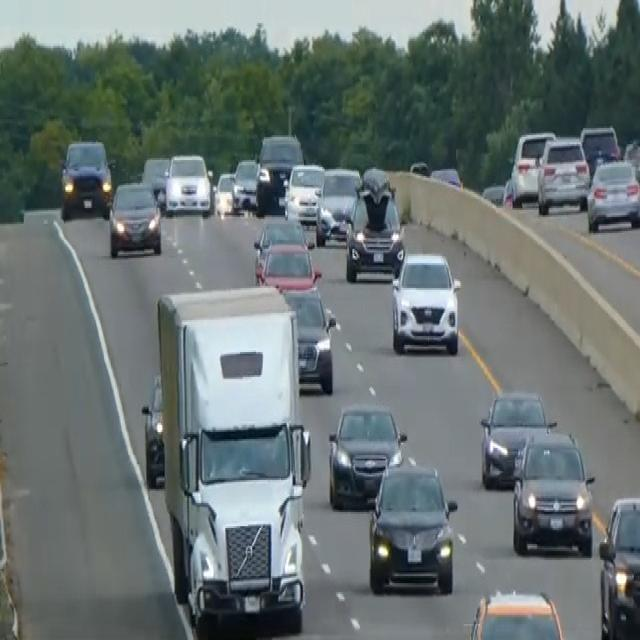car: (367, 457, 457, 595), (511, 428, 595, 556), (327, 402, 406, 508), (389, 247, 461, 356), (478, 388, 556, 487), (344, 169, 404, 283), (280, 283, 336, 393), (598, 492, 639, 638), (466, 587, 568, 638), (59, 137, 113, 220), (536, 133, 590, 215), (108, 178, 162, 258), (586, 156, 639, 233), (255, 132, 304, 214), (315, 164, 361, 245), (509, 128, 556, 204), (252, 213, 307, 276), (255, 240, 321, 292), (164, 151, 211, 215), (140, 372, 165, 487), (282, 160, 325, 226), (579, 123, 621, 174), (232, 154, 259, 212), (140, 154, 169, 204), (213, 169, 237, 217), (430, 164, 462, 188), (409, 158, 429, 176)
lorry: (153, 283, 312, 629)
